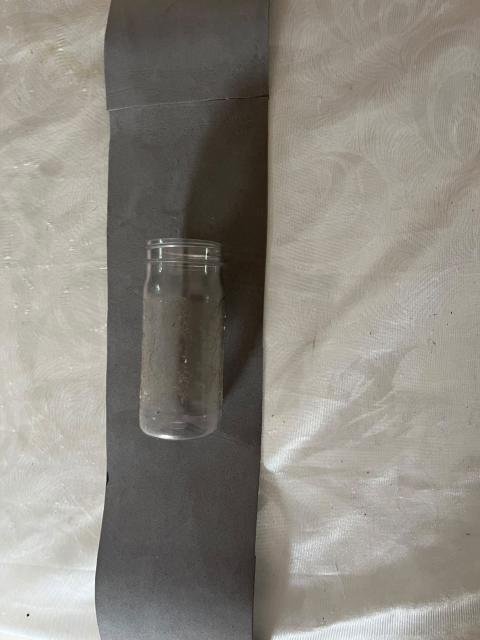PET: (105, 202, 265, 465)
